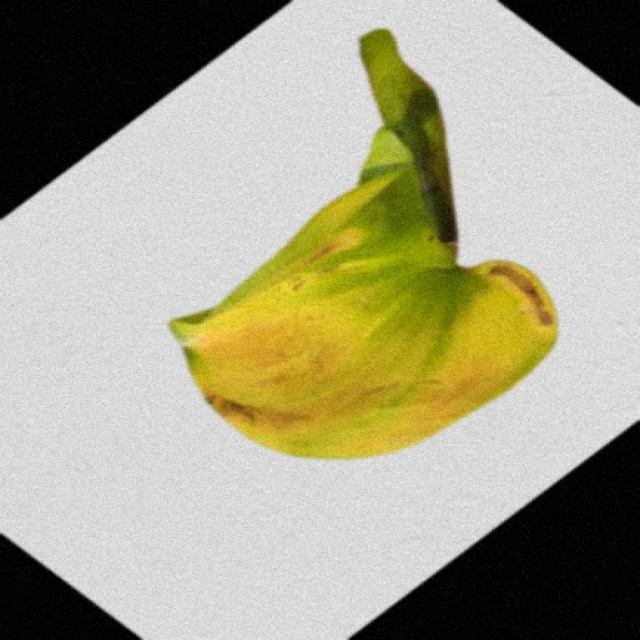daun berpenyakit kuning: (170, 30, 556, 458)
